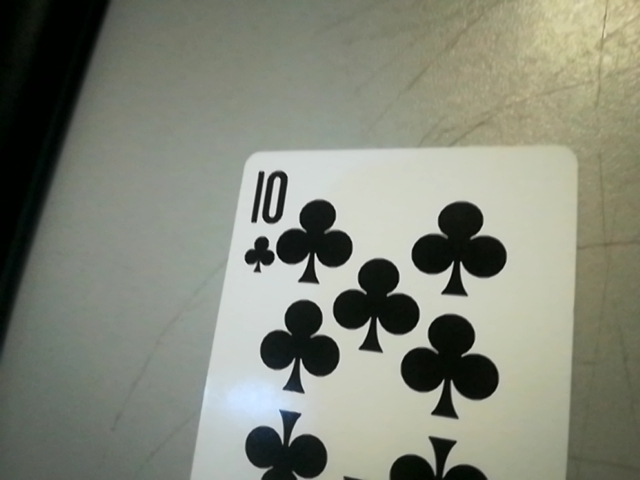mh 10: (231, 160, 293, 278)
